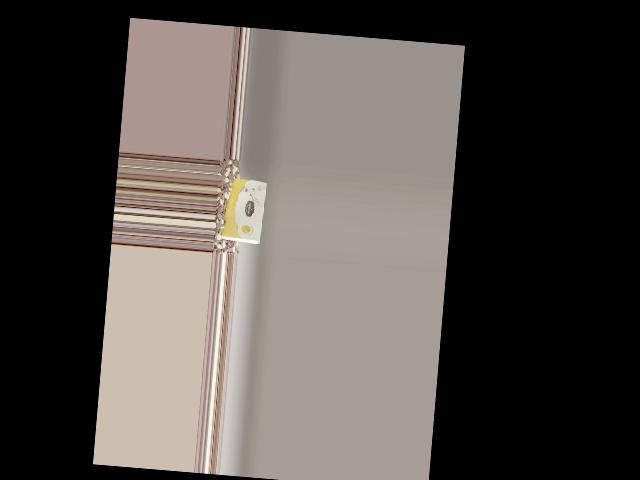chocolate: (218, 173, 269, 247)
